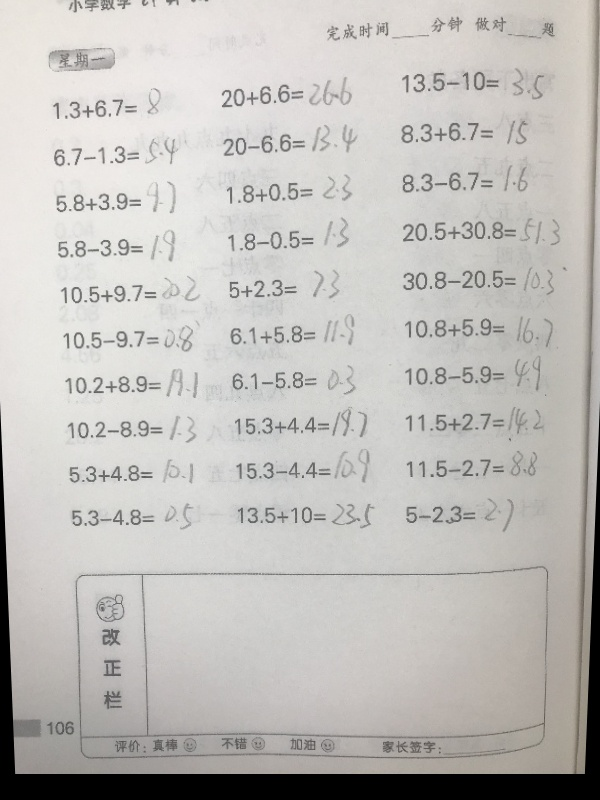equation: (399, 209, 570, 257), (398, 261, 562, 305), (400, 309, 563, 352), (398, 353, 559, 396), (401, 400, 562, 442), (397, 64, 555, 106), (401, 446, 560, 487), (393, 492, 552, 533), (231, 402, 375, 446), (234, 446, 378, 489), (225, 212, 357, 258), (396, 117, 544, 154), (60, 322, 204, 359), (396, 163, 544, 199), (222, 261, 355, 301), (217, 72, 356, 110), (219, 120, 361, 157), (52, 177, 180, 218), (225, 310, 357, 349), (230, 359, 362, 398), (61, 363, 200, 399), (56, 271, 203, 305), (48, 133, 190, 168), (54, 227, 180, 265), (234, 500, 378, 533), (63, 412, 200, 446), (222, 171, 355, 205), (68, 500, 197, 533), (64, 454, 196, 486), (49, 86, 166, 119)
